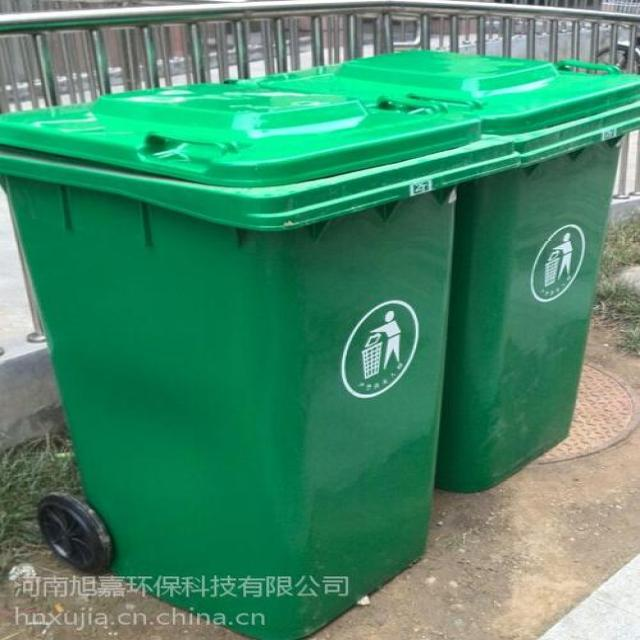garbage_bin: (1, 83, 520, 639), (224, 49, 639, 491)
